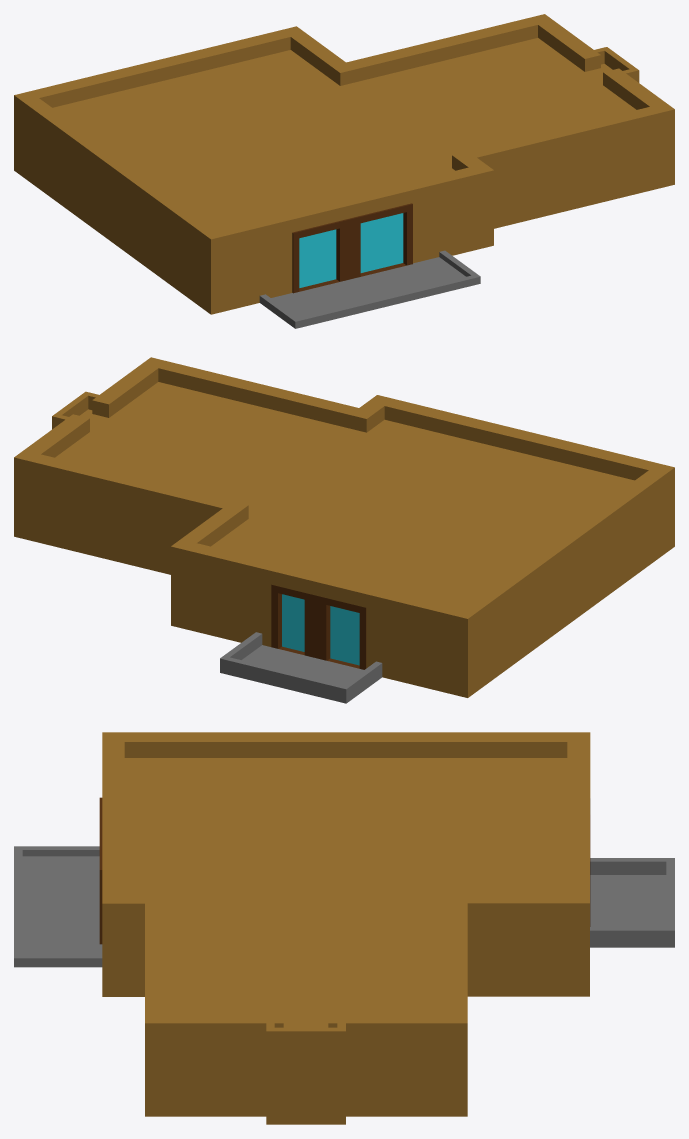
The model's file is house1.gltf.
The picture shows the model from 3 angles, top to bottom: view 1: azimuth 30°, elevation 25°; view 2: azimuth 150°, elevation 25°; view 3: azimuth 270°, elevation 25°; orthographic projection. The views are drawn at different scales.
Visible parts, largest first — view 1: Cube.010; view 2: Cube.010; view 3: Cube.010.
Part boxes in pixels (x1,y1,x2,y2): Cube.010: (14,14,674,328); Cube.010: (14,357,674,703); Cube.010: (14,732,674,1124).
Size of the model in its own units: 32.92 by 4.8 by 30.78.
